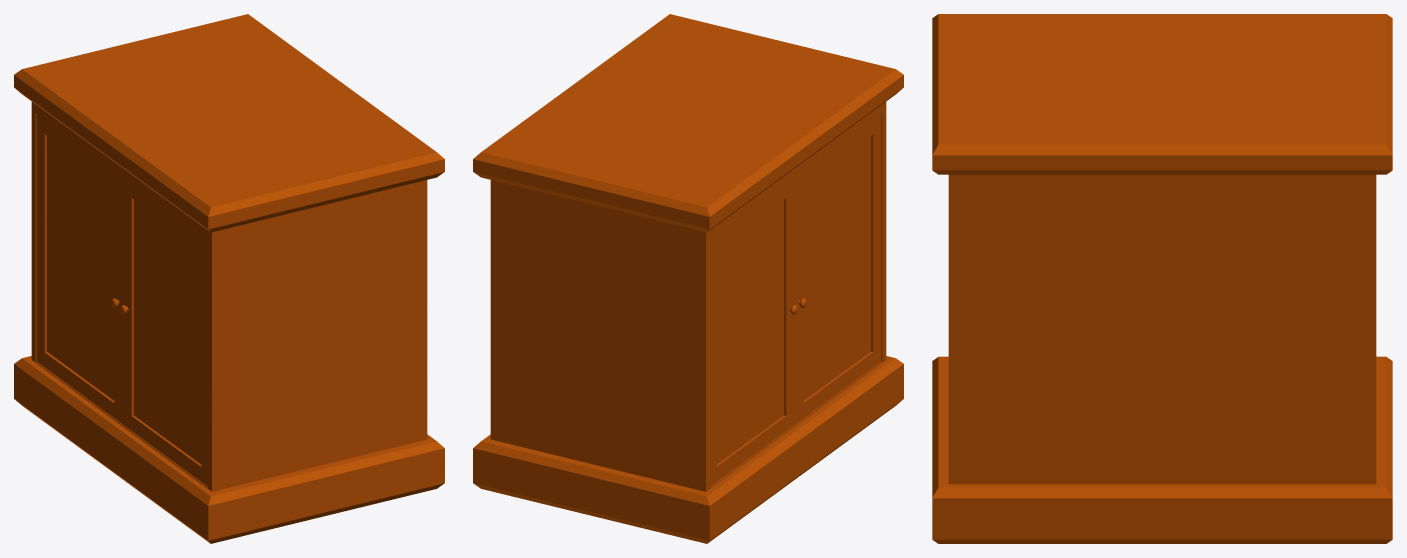
The model's file is MiniCabinet.fbx.
The picture shows the model from 3 angles, left to right: view 1: azimuth 30°, elevation 25°; view 2: azimuth 150°, elevation 25°; view 3: azimuth 270°, elevation 25°; orthographic projection. The views are drawn at different scales.
Visible parts, largest first — view 1: MiniCabinet.001; view 2: MiniCabinet.001; view 3: MiniCabinet.001.
Boxes of the visible parts, x1=… form: MiniCabinet.001: x1=14, y1=14, x2=444, y2=543; MiniCabinet.001: x1=473, y1=14, x2=903, y2=543; MiniCabinet.001: x1=932, y1=14, x2=1392, y2=543.
Size of the model in its own units: 109 by 148 by 155.
